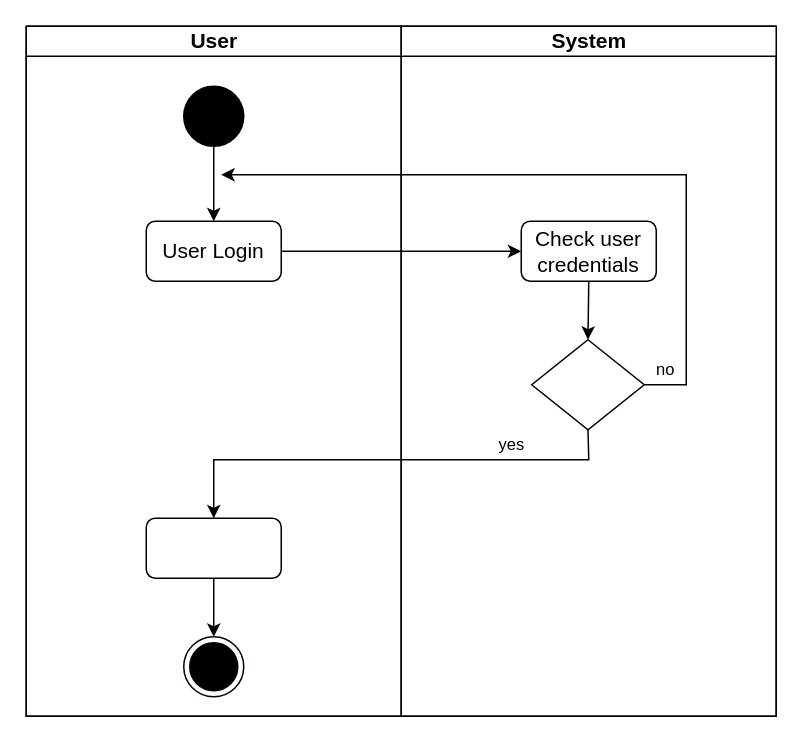
Some shapes in this 803 by 743 pixel diagram are drawn without their labels. The shapes that lost their labels are listed below. From the top down, each one's box as (x1, y1, x2, y2) in pixels, then its label:
(530, 338, 644, 430): if correct
(145, 517, 281, 578): Dashboard
